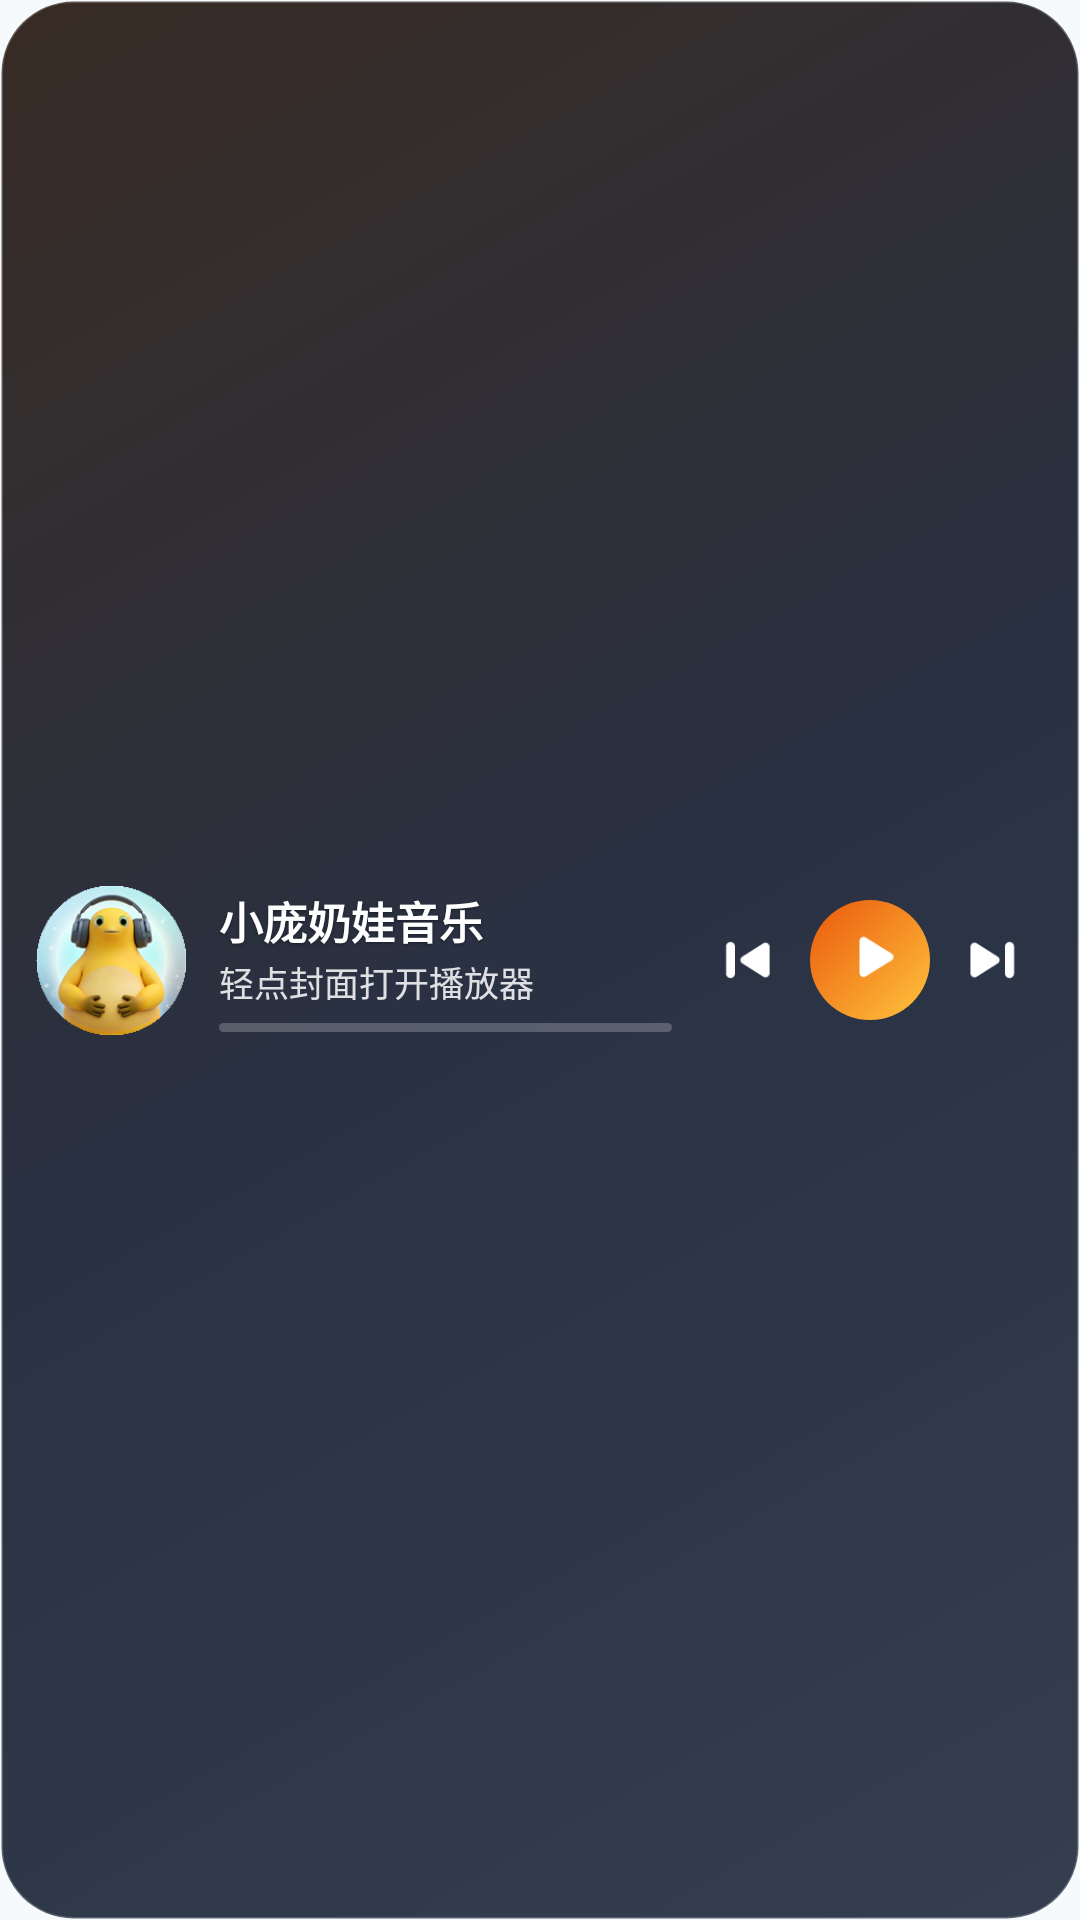

Icon bounding boxes for this 1080 x 1920 phone screenshot, format {"x1": x1, "y1": y1, "x2": x2, "y2": y2}:
上一首: {"x1": 725, "y1": 941, "x2": 770, "y2": 979}
下一首: {"x1": 970, "y1": 941, "x2": 1015, "y2": 979}
播放或暂停: {"x1": 810, "y1": 900, "x2": 930, "y2": 1020}
